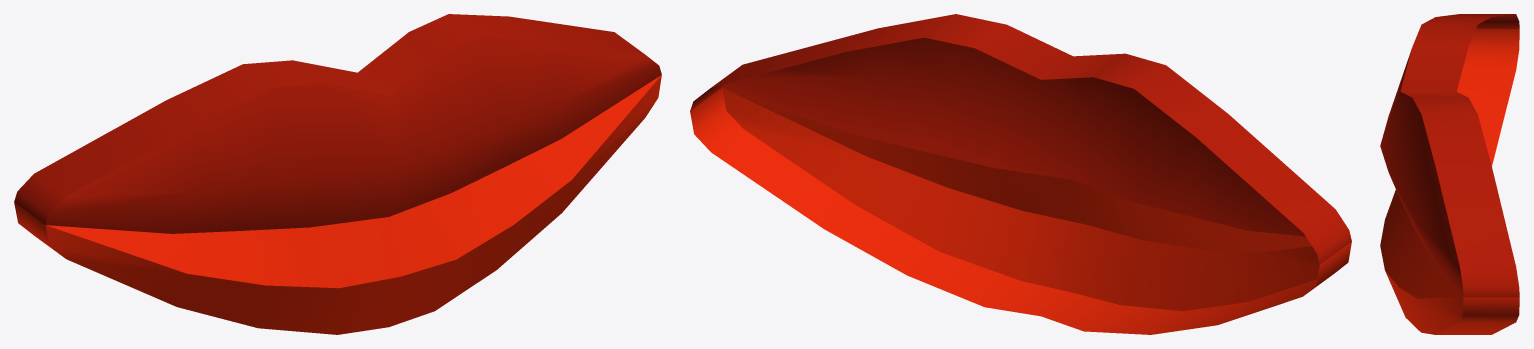
The model's file is Mouth_D_Lipstick_01.fbx.
3 renders of one model, left to right at view 1: azimuth 30°, elevation 25°; view 2: azimuth 150°, elevation 25°; view 3: azimuth 270°, elevation 25°, orthographic. The views are drawn at different scales.
Parts seen in each view (by area): view 1: Mouth_D_Lipstick_01; view 2: Mouth_D_Lipstick_01; view 3: Mouth_D_Lipstick_01.
Part boxes in pixels (x1=…): Mouth_D_Lipstick_01: x1=14, y1=14, x2=661, y2=334; Mouth_D_Lipstick_01: x1=690, y1=14, x2=1351, y2=334; Mouth_D_Lipstick_01: x1=1380, y1=14, x2=1519, y2=334.
Bounding box in the file's own units: 29.09 × 11.56 × 6.39.
